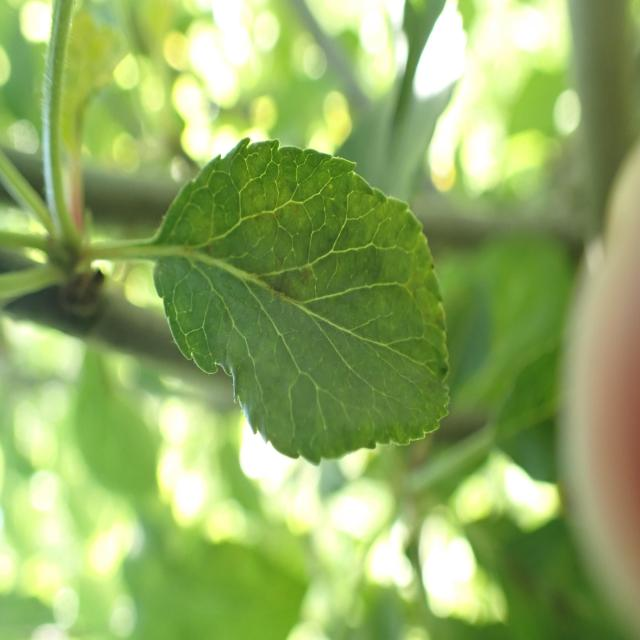scab: (167, 184, 447, 453)
